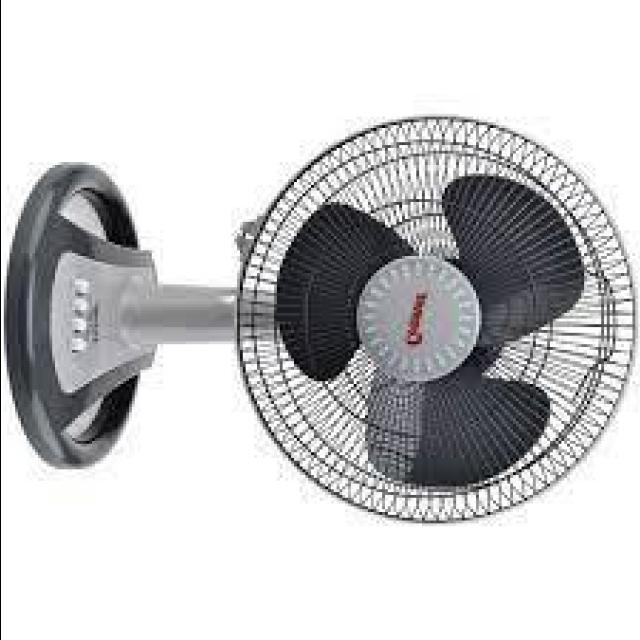fan: (11, 113, 640, 540)
